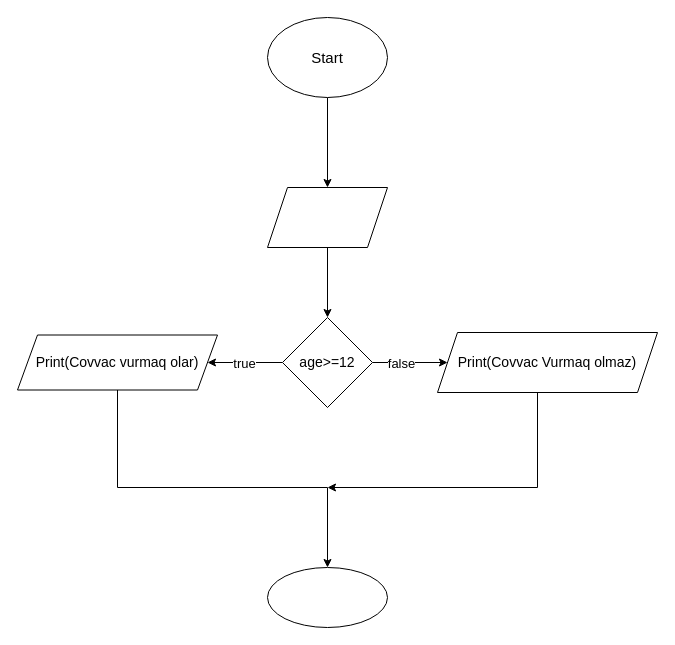
This 675x645 diagram has some shape labels left out. The box of each missing label's shape, as (x1, y1, x2, y2) in pixels:
End: (266, 566, 388, 628)
let age: (266, 186, 388, 248)
